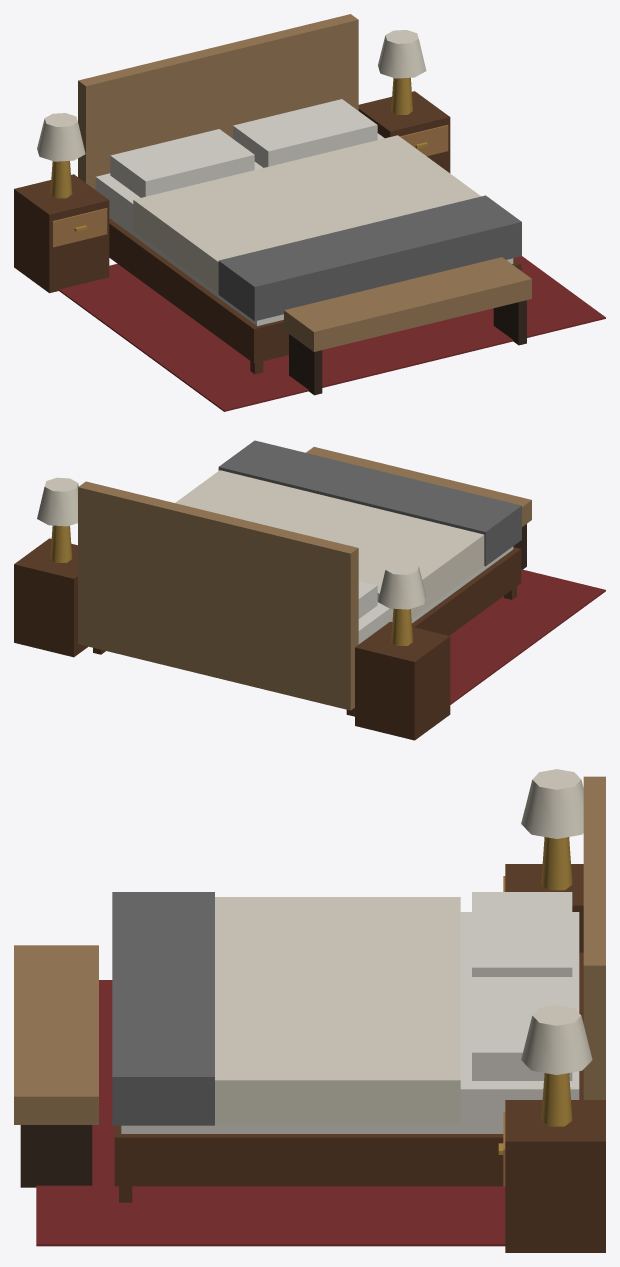
File: bed.glb
3 views of the same model, one above another, from view 1: azimuth 30°, elevation 25°; view 2: azimuth 150°, elevation 25°; view 3: azimuth 270°, elevation 25° (orthographic). The views are drawn at different scales.
Visible parts, largest first — view 1: bed; view 2: bed; view 3: bed.
Part boxes in pixels (box(x1,y1,x2,y2)): bed: box(14, 14, 605, 411); bed: box(14, 440, 605, 740); bed: box(14, 769, 605, 1252).
Bounding box in the file's own units: 2.94 × 1.2 × 2.65.
Materials: 1 (1 with a texture image).
